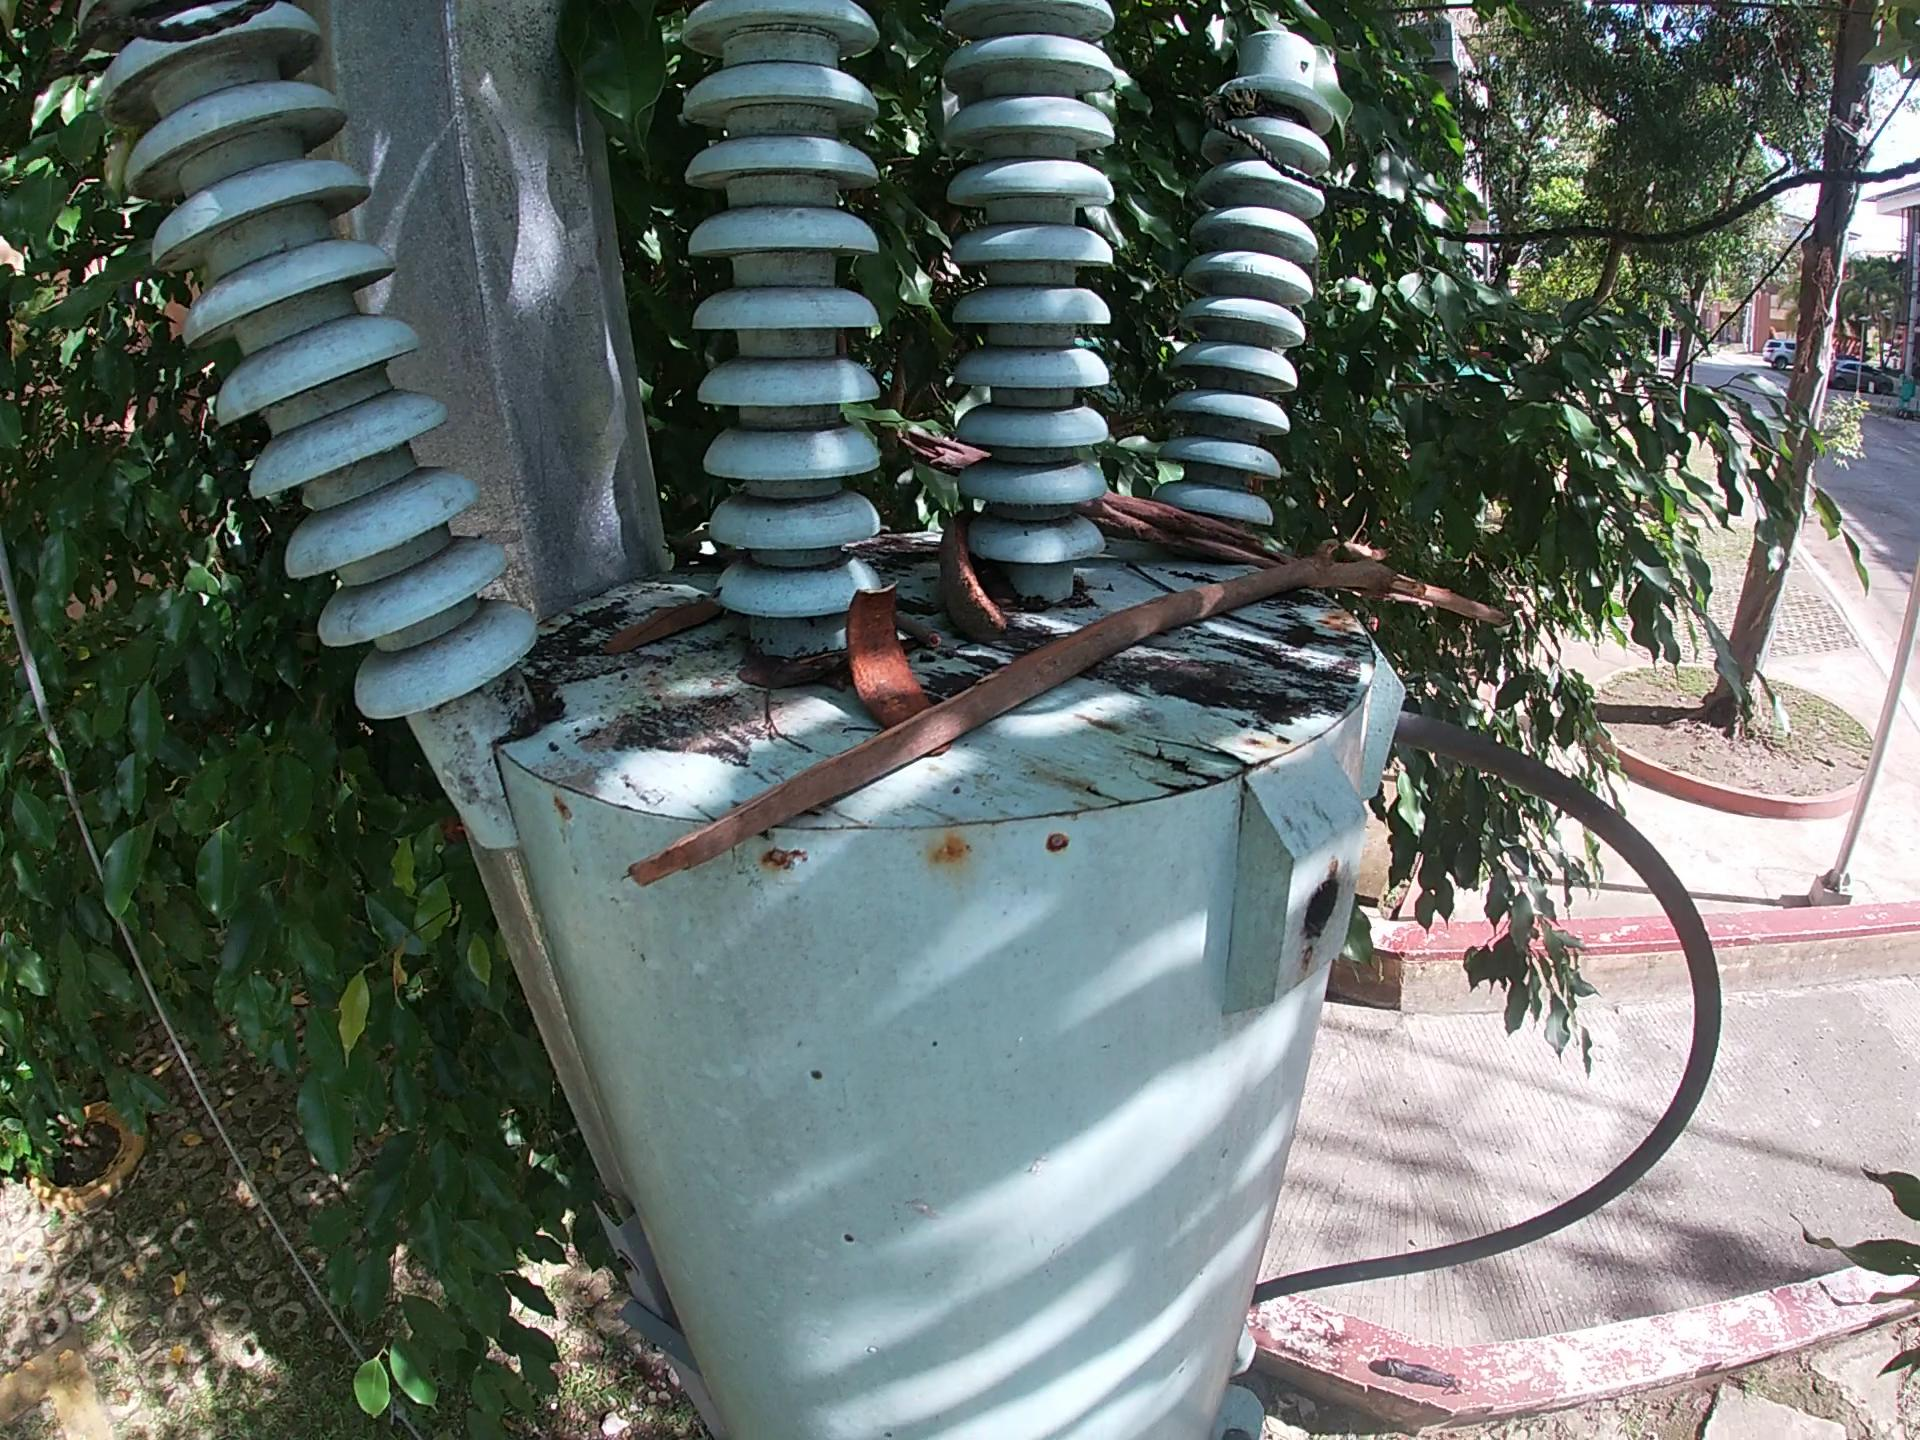leaf: (590, 590, 726, 659)
mahogany fruit: (928, 504, 1022, 652), (842, 582, 931, 734)
tree branch: (620, 513, 1525, 898), (892, 421, 1308, 575), (903, 608, 942, 664)
